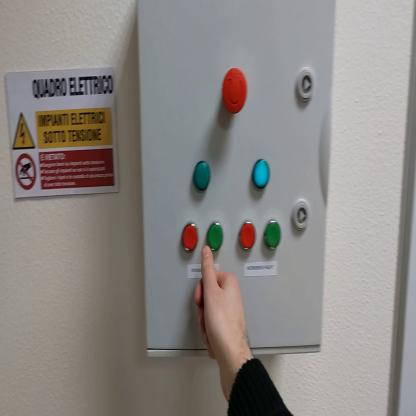hand: (196, 246, 251, 371)
left green button: (208, 222, 225, 253)
left red button: (183, 223, 200, 254)
right green button: (266, 219, 283, 253)
right red button: (239, 222, 257, 250)
